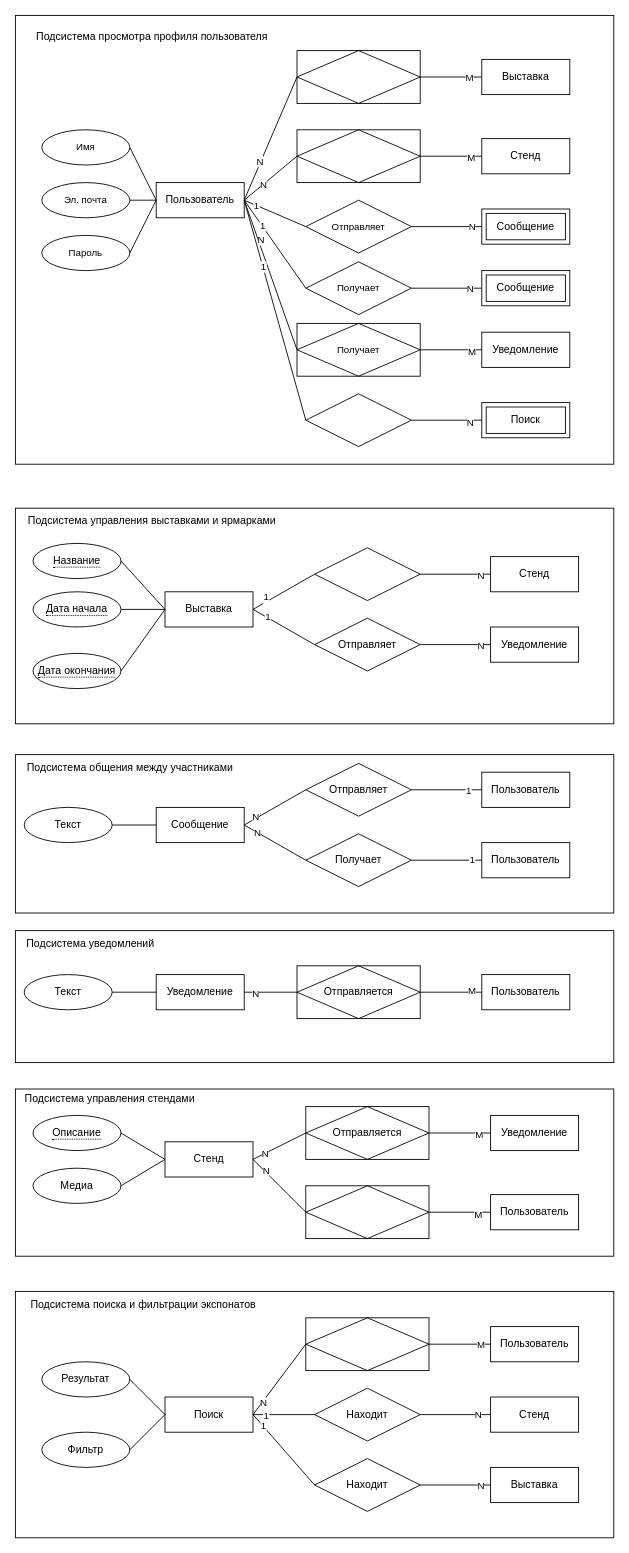
This 629x1553 diagram has some shape labels left out. Each missing label, with the centre of its shape:
"Выполняет" goes at (x=358, y=420).
"Организовывает" goes at (x=358, y=76).
"Осуществляется" goes at (x=367, y=1344).
"Просматривается" goes at (x=367, y=1212).
"Содержит" goes at (x=367, y=574).
"Управляет" goes at (x=358, y=156).
